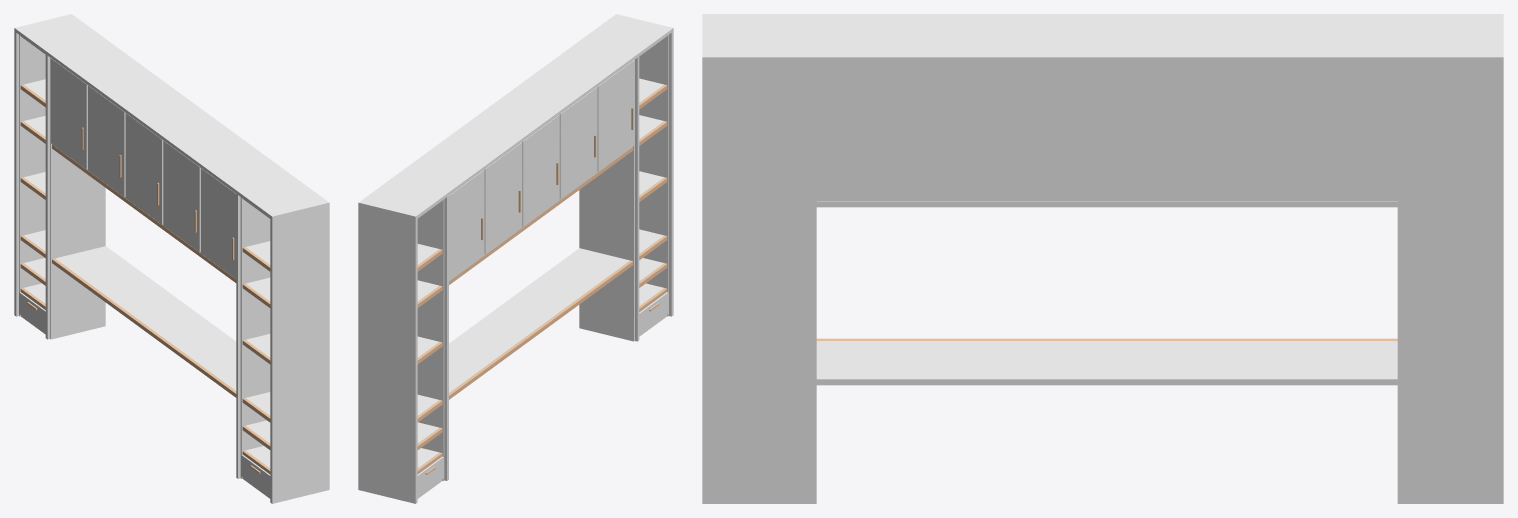
3 views of the same model, side by side, from view 1: azimuth 30°, elevation 25°; view 2: azimuth 150°, elevation 25°; view 3: azimuth 270°, elevation 25° (orthographic). The views are drawn at different scales.
Parts seen in each view (by area): view 1: SM_H_Residential_Bedroom_Cabinet_02; view 2: SM_H_Residential_Bedroom_Cabinet_02; view 3: SM_H_Residential_Bedroom_Cabinet_02.
Boxes of the visible parts, x1,y1,x2,y2 form: SM_H_Residential_Bedroom_Cabinet_02: (14,14,329,503); SM_H_Residential_Bedroom_Cabinet_02: (358,14,673,503); SM_H_Residential_Bedroom_Cabinet_02: (702,14,1503,503).
Size of the model in its own units: 208 by 26.7 by 128.
